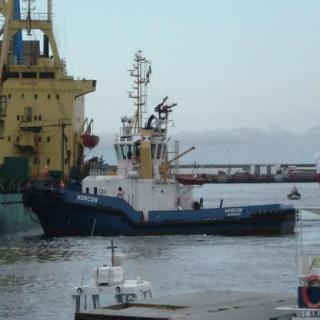Tug Boat: (21, 76, 278, 232)
